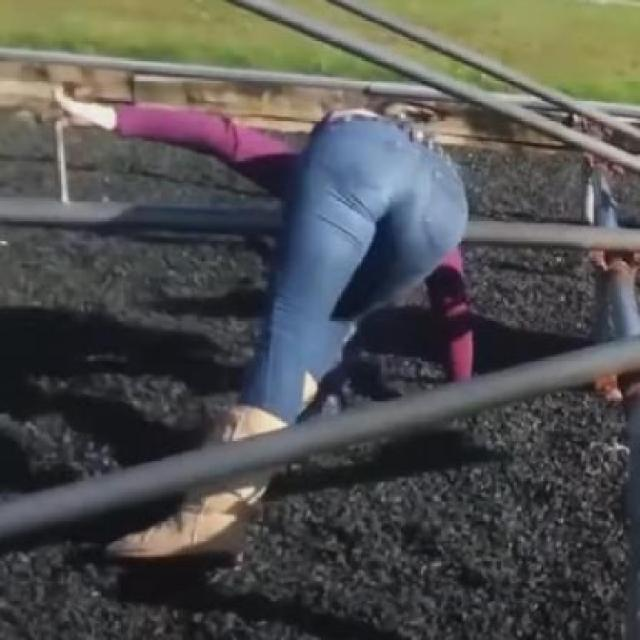fall: (57, 84, 486, 564)
